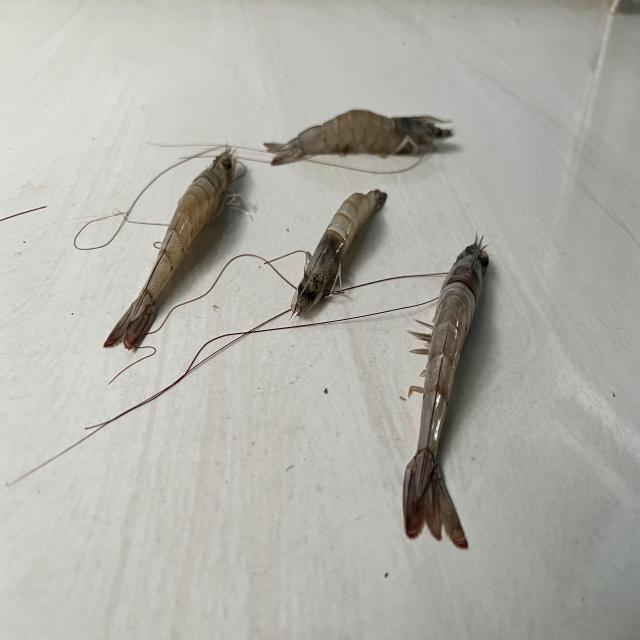shrimp: (403, 237, 490, 549), (103, 149, 236, 349), (291, 188, 387, 315), (264, 109, 454, 165)
